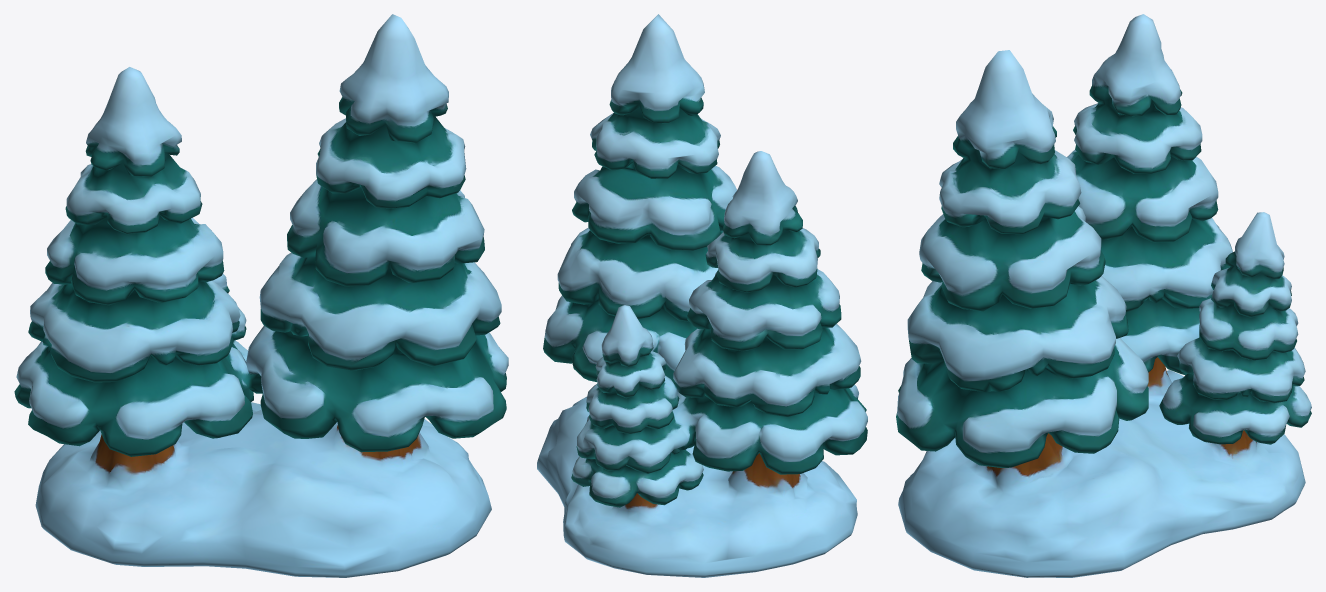
The model's file is model_url.glb.
3 views of the same model, side by side, from view 1: azimuth 30°, elevation 25°; view 2: azimuth 150°, elevation 25°; view 3: azimuth 270°, elevation 25° (orthographic). The views are drawn at different scales.
Visible parts, largest first — view 1: tripo_node_edeae764-c8e1-4b0d-8d01-7e84038e2579; view 2: tripo_node_edeae764-c8e1-4b0d-8d01-7e84038e2579; view 3: tripo_node_edeae764-c8e1-4b0d-8d01-7e84038e2579.
Boxes of the visible parts, <box> form: tripo_node_edeae764-c8e1-4b0d-8d01-7e84038e2579: <box>14,14,508,577</box>; tripo_node_edeae764-c8e1-4b0d-8d01-7e84038e2579: <box>537,14,867,577</box>; tripo_node_edeae764-c8e1-4b0d-8d01-7e84038e2579: <box>896,14,1311,577</box>.
Size of the model in its own units: 0.8356 by 1 by 0.773.
1 material, 1 textured.
